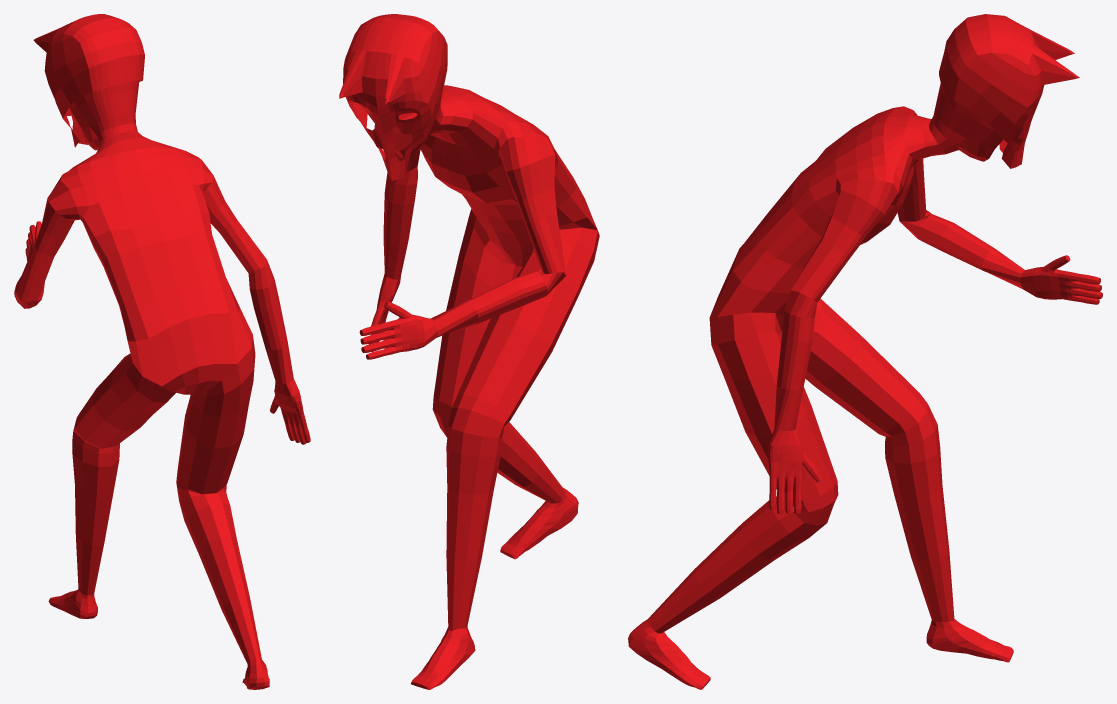
File: saltoadelanteE_000149.obj
The picture shows the model from 3 angles, left to right: view 1: azimuth 30°, elevation 25°; view 2: azimuth 150°, elevation 25°; view 3: azimuth 270°, elevation 25°; orthographic projection. The views are drawn at different scales.
Visible parts, largest first — view 1: Plane.002_Plane.001; view 2: Plane.002_Plane.001; view 3: Plane.002_Plane.001.
Boxes of the visible parts, x1,y1,x2,y2 form: Plane.002_Plane.001: (14,14,310,689); Plane.002_Plane.001: (339,14,599,689); Plane.002_Plane.001: (628,14,1102,689).
Bounding box in the file's own units: 2.41 × 5.81 × 3.83.
